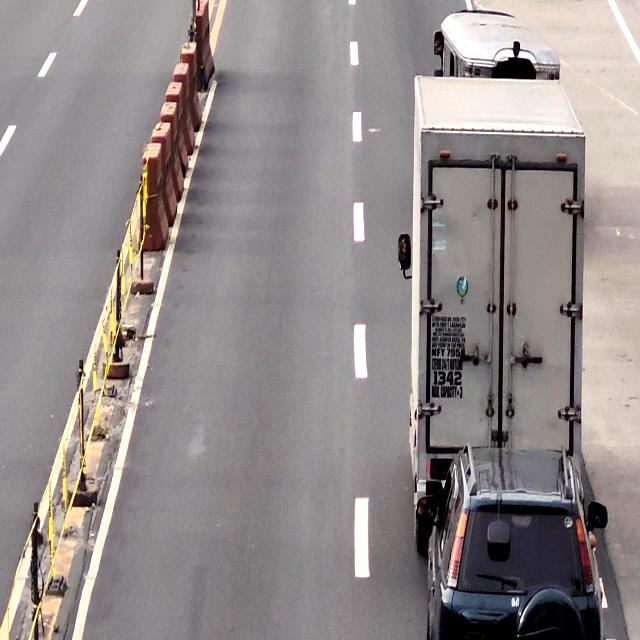Car: (428, 439, 604, 640)
Truck: (413, 79, 584, 420)
